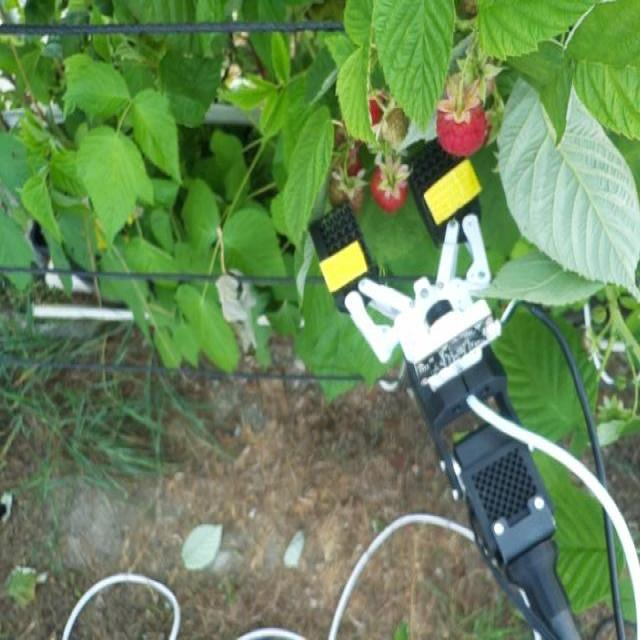Riped berries: (434, 90, 495, 158), (372, 157, 416, 215), (362, 80, 392, 122)
